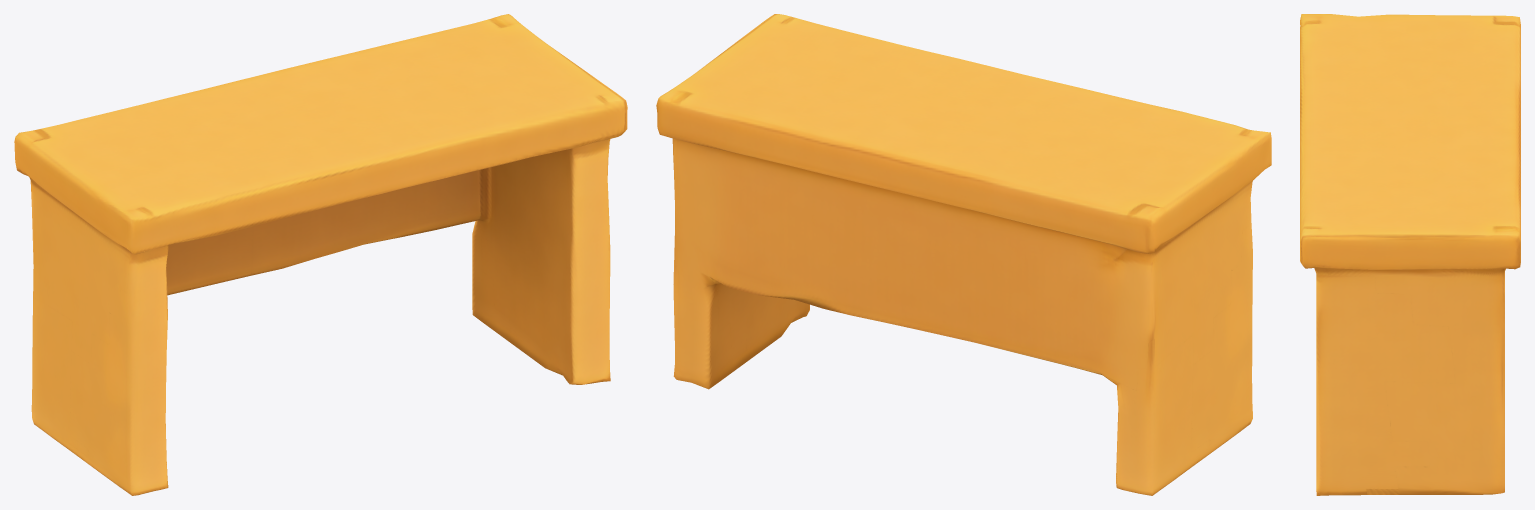
Rendered from 06-desk.fbx.
3 views of the same model, side by side, from view 1: azimuth 30°, elevation 25°; view 2: azimuth 150°, elevation 25°; view 3: azimuth 270°, elevation 25° (orthographic). The views are drawn at different scales.
Visible parts, largest first — view 1: model; view 2: model; view 3: model.
Boxes of the visible parts, x1,y1,x2,y2 form: model: [14, 14, 627, 495]; model: [656, 14, 1271, 495]; model: [1300, 14, 1520, 495].
Size of the model in its own units: 188 by 103 by 78.52.
